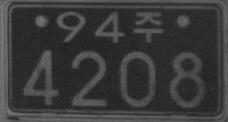0: (118, 49, 156, 109)
2: (71, 48, 108, 108)
4: (22, 49, 59, 105), (94, 11, 126, 43)
8: (168, 51, 206, 109)
9: (56, 10, 86, 43)
주: (132, 10, 164, 42)
